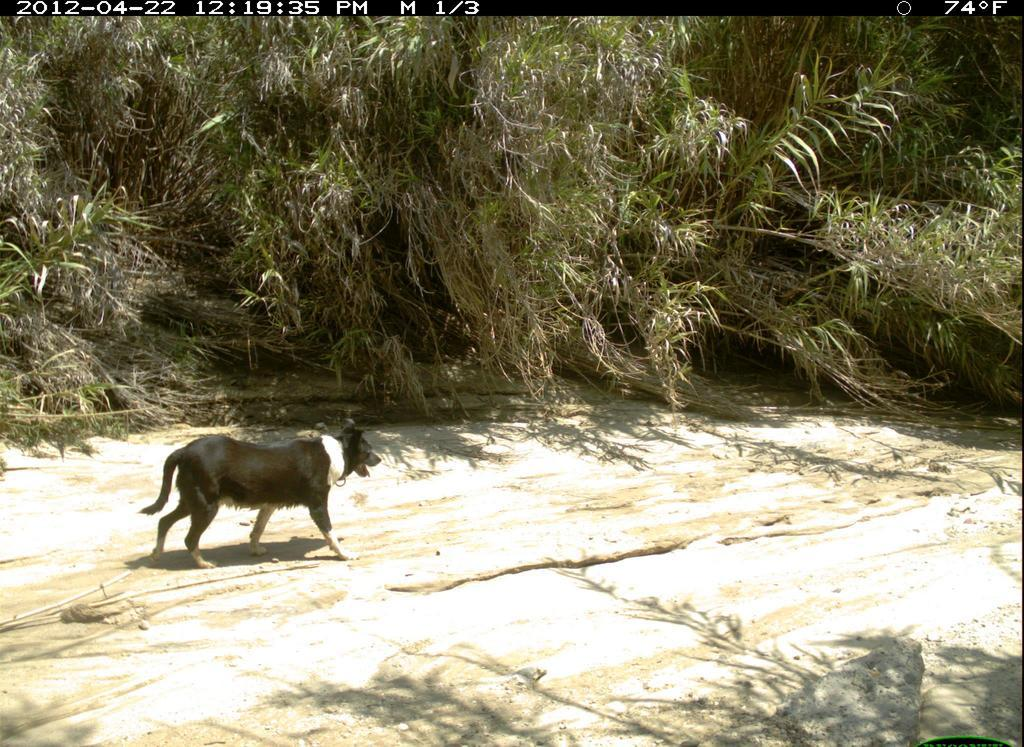dog: (137, 401, 382, 571)
